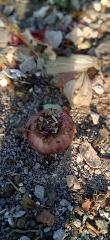organic: (21, 101, 81, 160), (36, 50, 110, 74), (14, 23, 58, 60), (76, 134, 106, 174)
